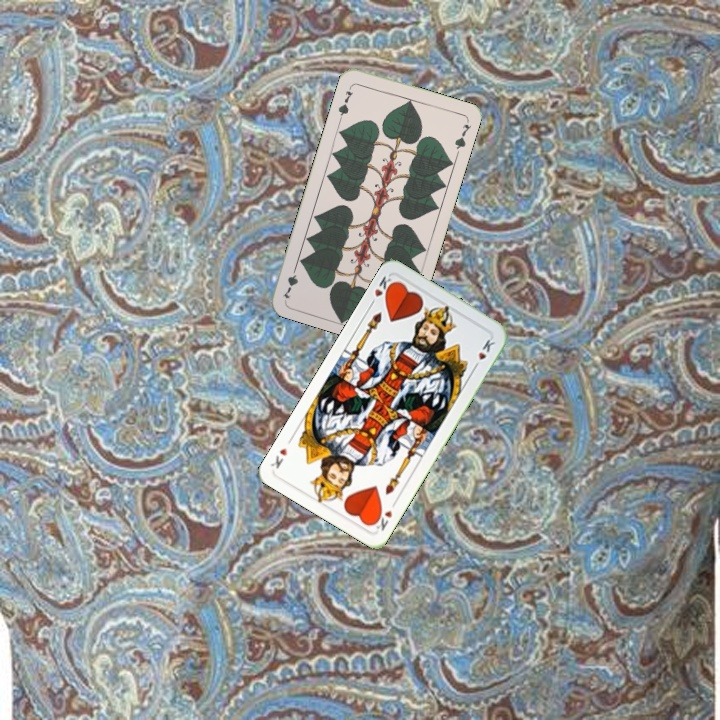G7: (334, 81, 356, 121)
HK: (369, 496, 400, 534), (370, 272, 397, 302)
